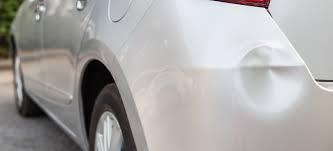dent: (234, 42, 305, 123)
